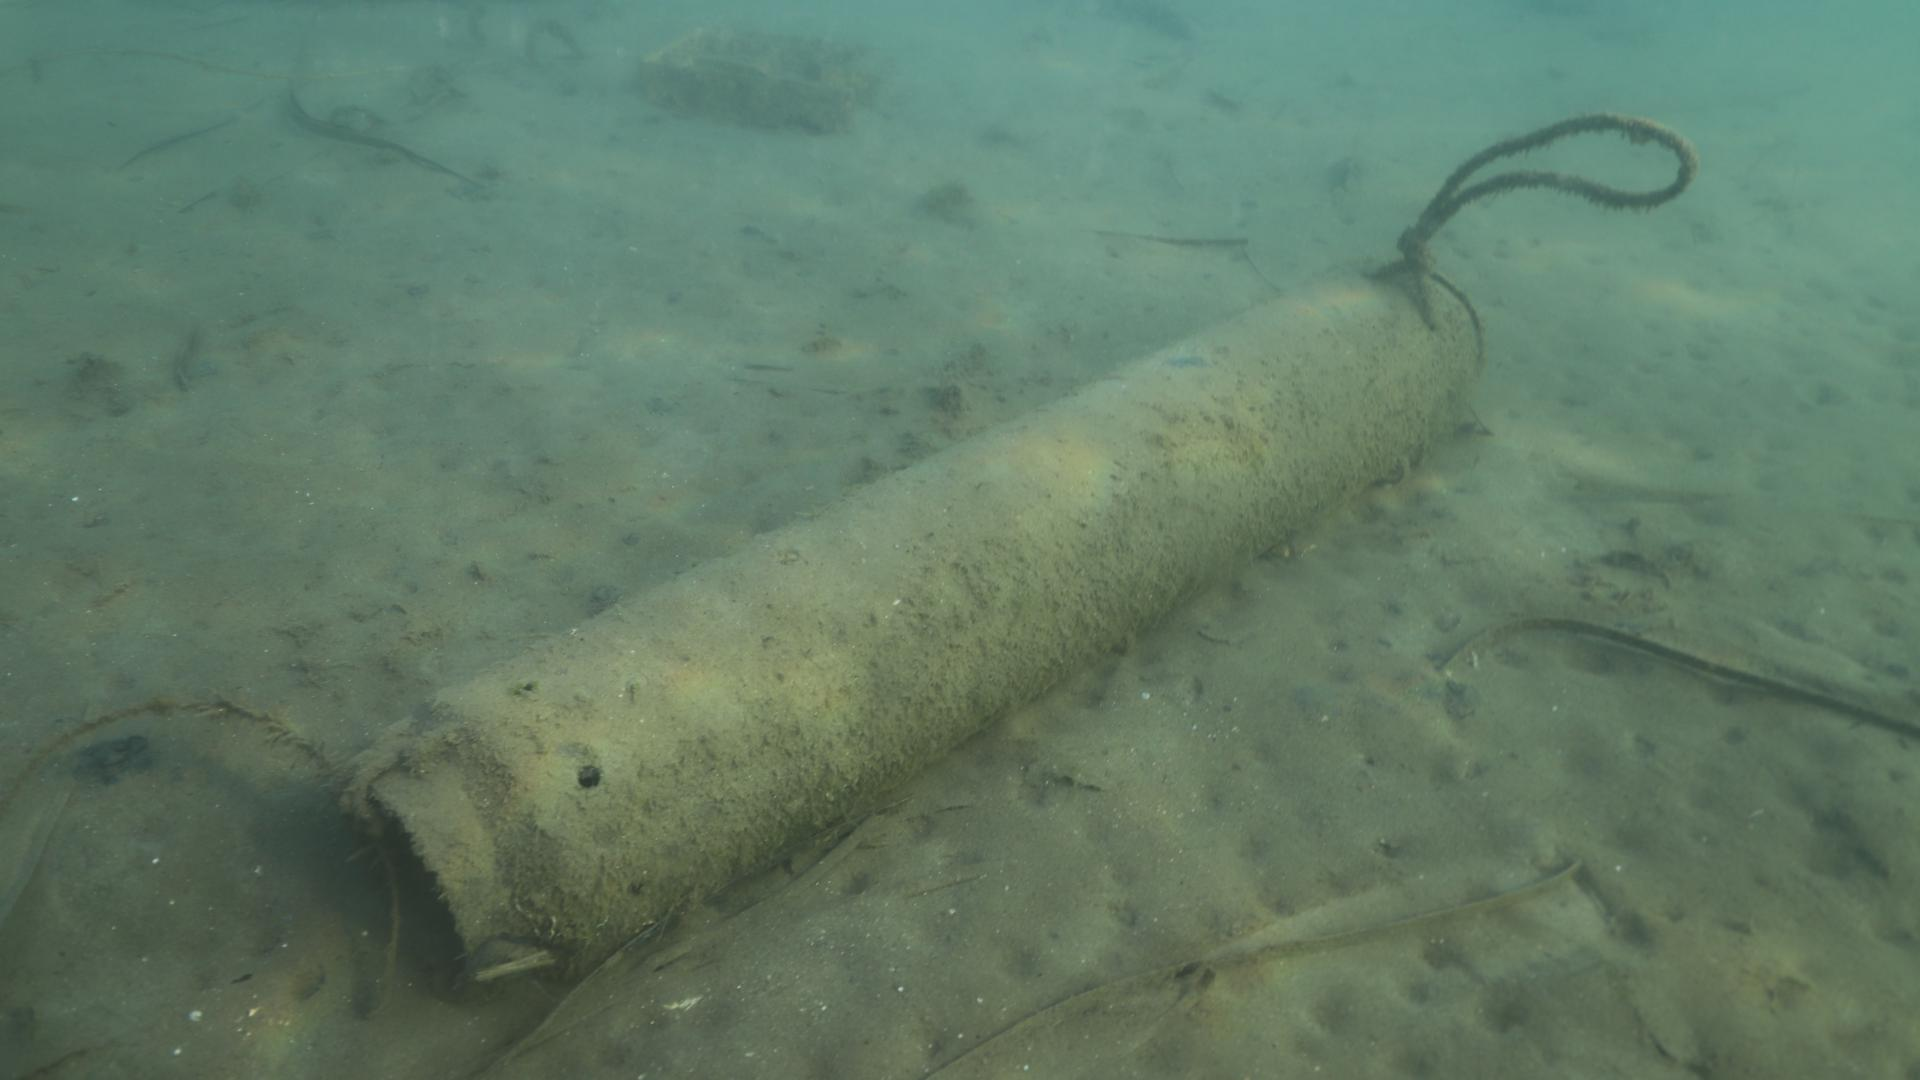bundle of ropes: (1395, 113, 1696, 262)
eel fish trap: (339, 258, 1486, 990)
